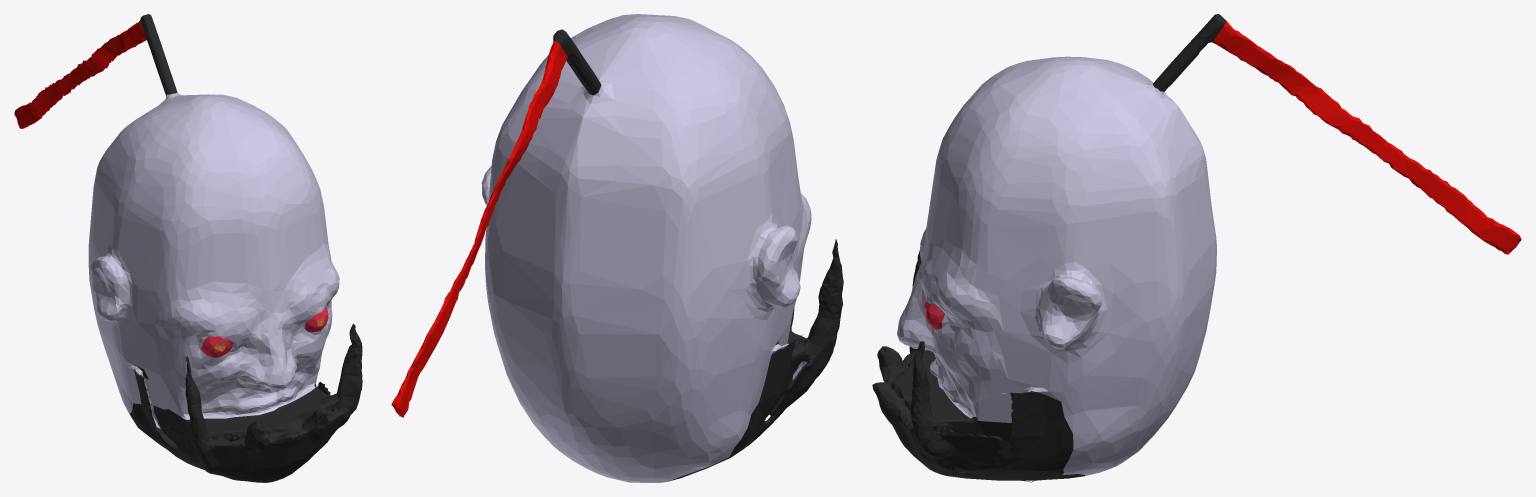
File: Sion.fbx
3 renders of one model, left to right at view 1: azimuth 30°, elevation 25°; view 2: azimuth 150°, elevation 25°; view 3: azimuth 270°, elevation 25°, orthographic. The views are drawn at different scales.
Parts seen in each view (by area): view 1: Cube; view 2: Cube; view 3: Cube.
Boxes of the visible parts, x1,y1,x2,y2 form: Cube: (14, 14, 362, 482); Cube: (391, 14, 843, 482); Cube: (872, 14, 1521, 482).
Bounding box in the file's own units: 190 × 310 × 398.
